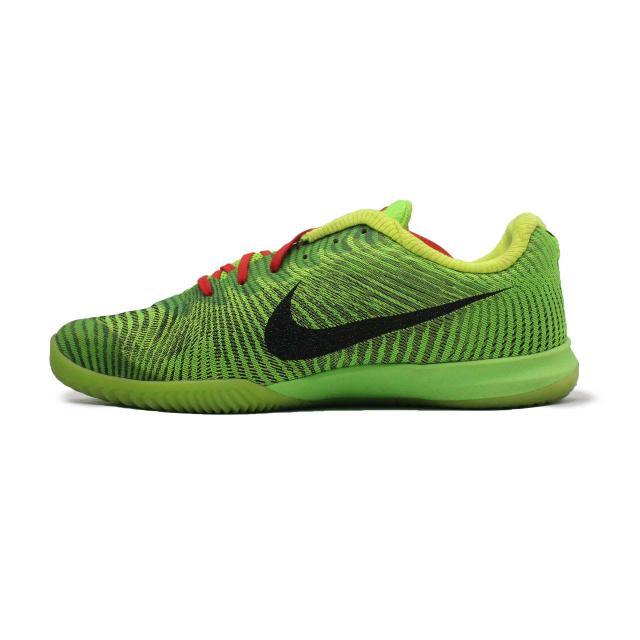heel: (494, 212, 566, 349)
midsole: (44, 336, 578, 414)
uppersole: (51, 198, 527, 386)
